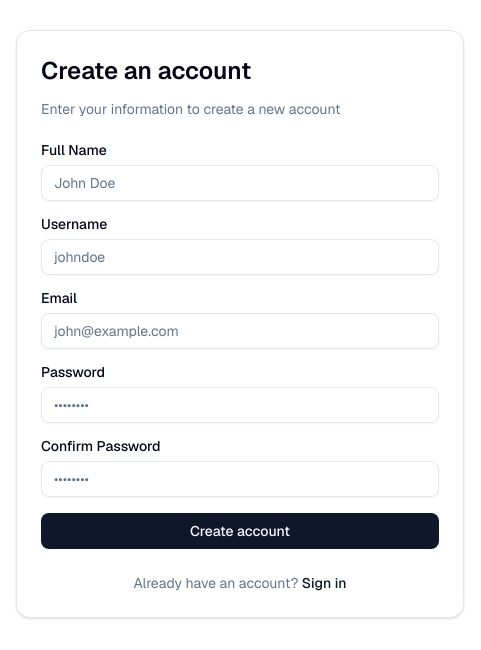
Test: SignupPage › Form Validation › Full Name Validation › should show validation error when full name is empty
Click the field labelled "Full Name": (240, 183) [41,165,439,201]
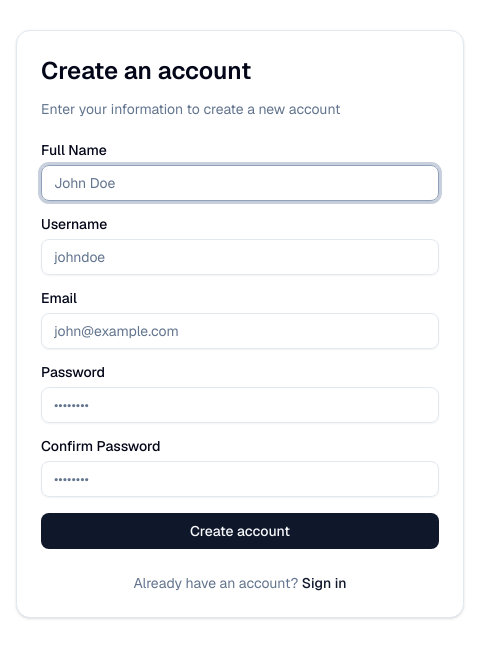
Press Tab
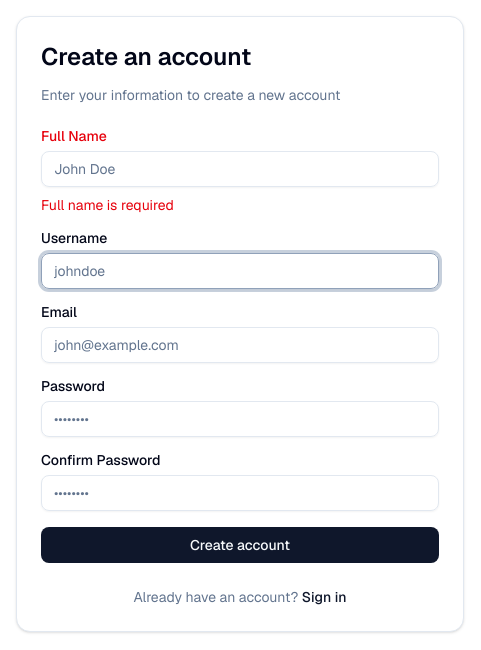
Expected: the text "Full name is required" is shown, [41,196,174,214]
